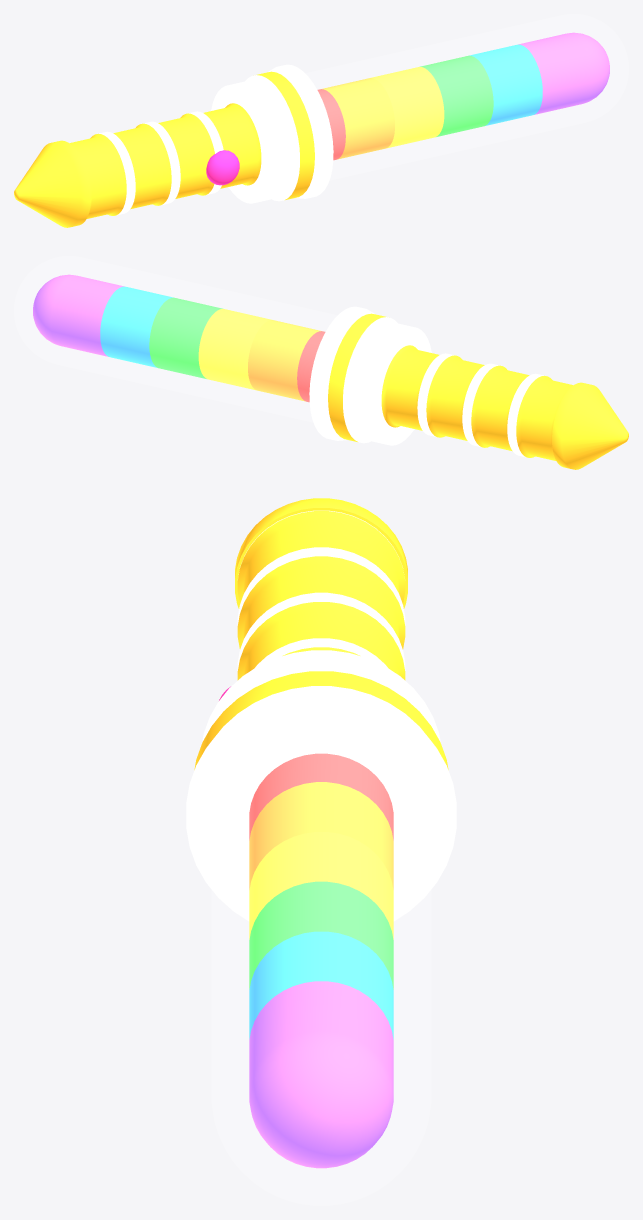
3 renders of one model, top to bottom at view 1: azimuth 30°, elevation 25°; view 2: azimuth 150°, elevation 25°; view 3: azimuth 270°, elevation 25°, orthographic. The views are drawn at different scales.
Visible parts, largest first — view 1: SaberRainbow; view 2: SaberRainbow; view 3: SaberRainbow.
Boxes of the visible parts, x1,y1,x2,y2 form: SaberRainbow: (14,14,628,227); SaberRainbow: (14,256,628,469); SaberRainbow: (186,498,456,1205).
Bounding box in the file's own units: 5.74 × 1.11 × 1.11.
